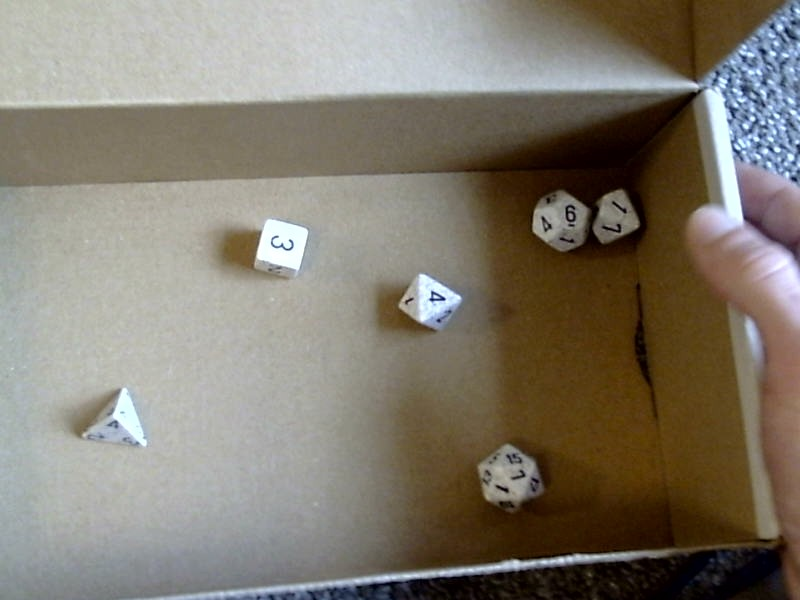d10 1: (589, 177, 642, 257)
d12 6: (524, 182, 592, 255)
d20 7: (469, 439, 552, 524)
d4 4: (75, 381, 147, 452)
d6 3: (243, 210, 314, 279)
d8 4: (396, 268, 466, 333)
